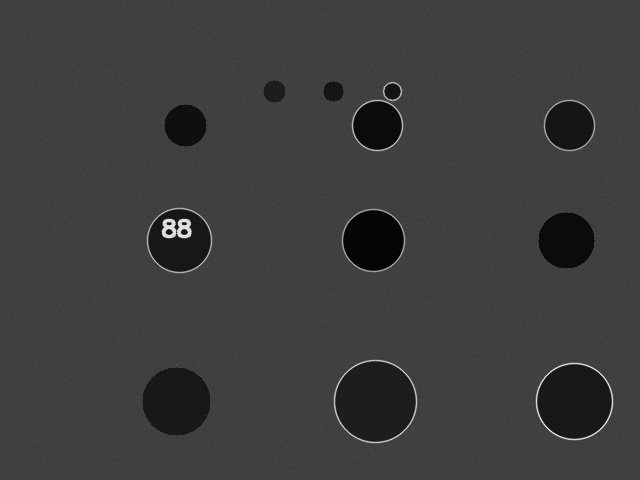hole: (334, 360, 416, 442), (536, 363, 612, 439), (142, 367, 210, 435), (147, 208, 211, 272), (342, 209, 404, 271), (538, 212, 594, 268), (352, 100, 402, 150), (544, 100, 594, 150), (164, 104, 206, 146), (263, 80, 285, 102), (323, 81, 343, 101), (383, 82, 401, 100)
